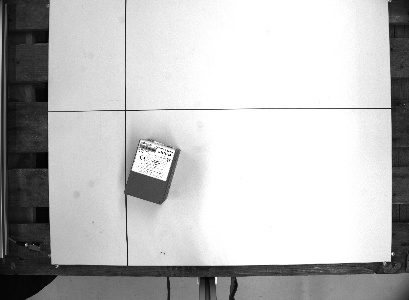b4: (122, 135, 182, 206)
